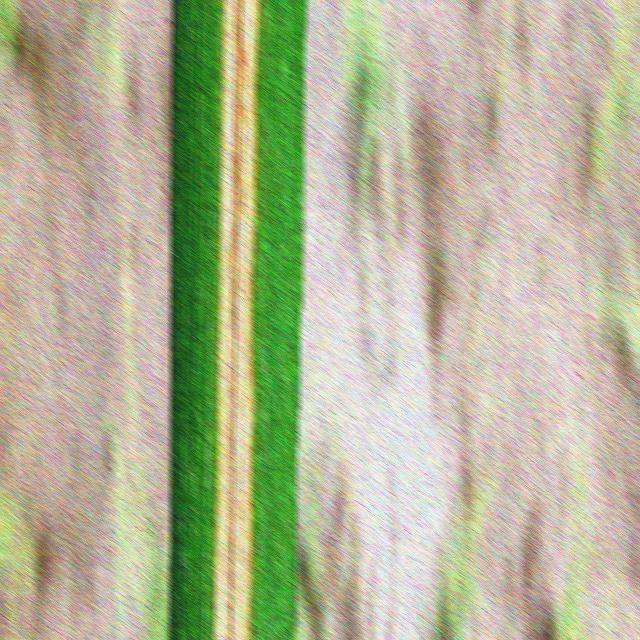BLB: (211, 0, 260, 639)
